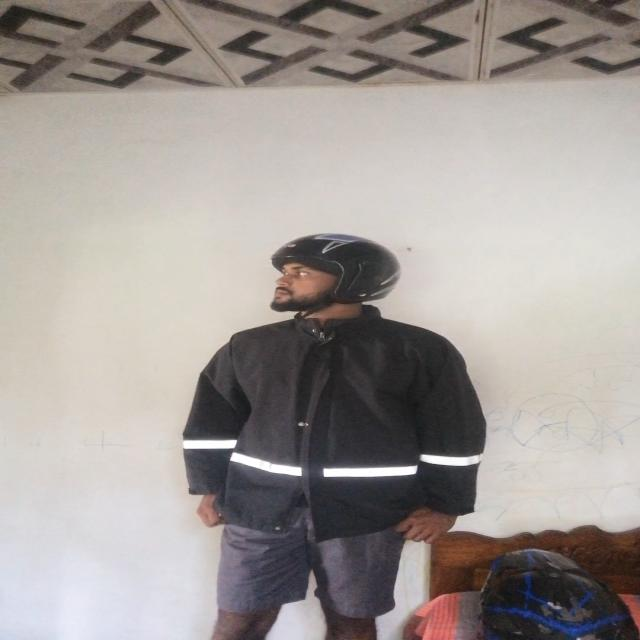Helmet_Wearer: (233, 235, 428, 323)
Jacket_Wearer: (181, 313, 496, 545)
Person: (164, 231, 478, 640)
